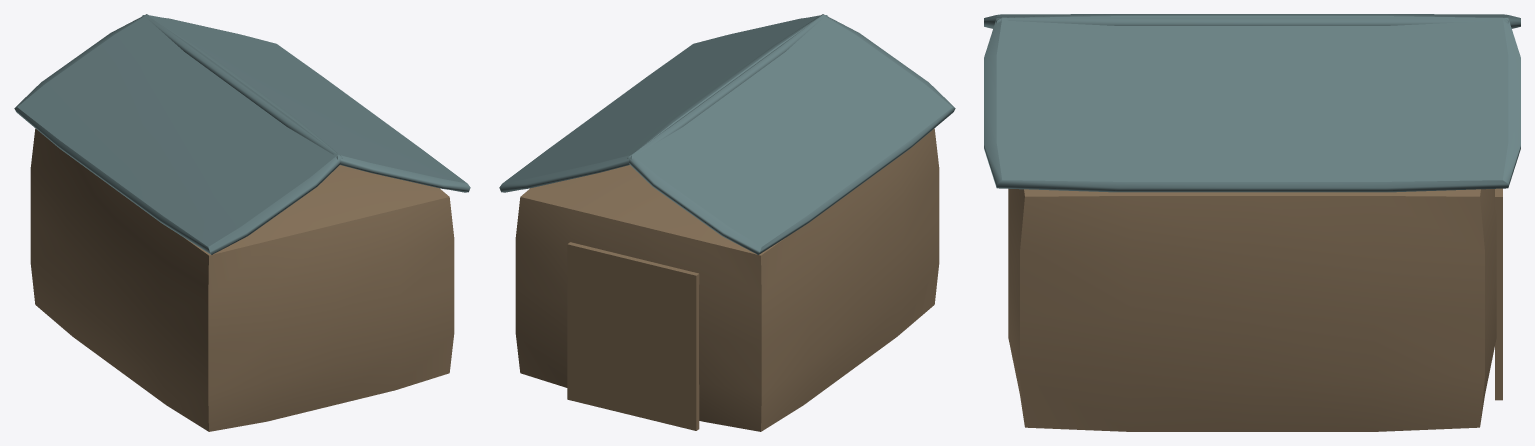
File: small_cabin.glb
3 views of the same model, side by side, from view 1: azimuth 30°, elevation 25°; view 2: azimuth 150°, elevation 25°; view 3: azimuth 270°, elevation 25° (orthographic). The views are drawn at different scales.
Visible parts, largest first — view 1: static_wood, static_roof_blue; view 2: static_wood, static_roof_blue; view 3: static_wood, static_roof_blue.
Boxes of the visible parts, left/top/right/bottom form: static_wood: left=30, top=128, right=454, bottom=431; static_roof_blue: left=14, top=14, right=470, bottom=254; static_wood: left=515, top=128, right=939, bottom=431; static_roof_blue: left=499, top=14, right=955, bottom=254; static_wood: left=1008, top=188, right=1502, bottom=431; static_roof_blue: left=984, top=14, right=1520, bottom=192.
Size of the model in its own units: 4.14 by 3.87 by 5.5.
